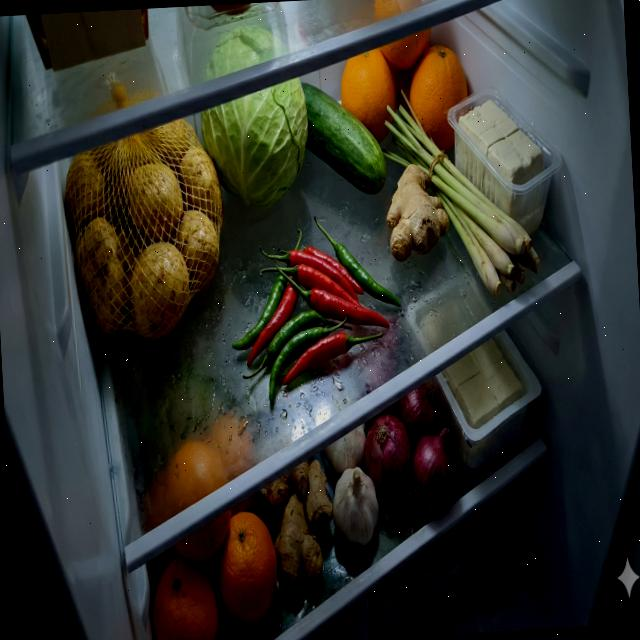cabbage: (196, 21, 314, 212)
chili: (226, 210, 407, 408)
cucumber: (300, 76, 388, 199)
garlic: (322, 423, 381, 548)
ginger: (258, 458, 337, 588), (384, 162, 452, 263)
lemongrass: (378, 82, 543, 302)
onion: (360, 380, 459, 519)
orange: (142, 412, 282, 640), (337, 25, 471, 157)
potato: (62, 116, 231, 346)
tofu: (452, 95, 547, 238), (439, 336, 526, 431)
